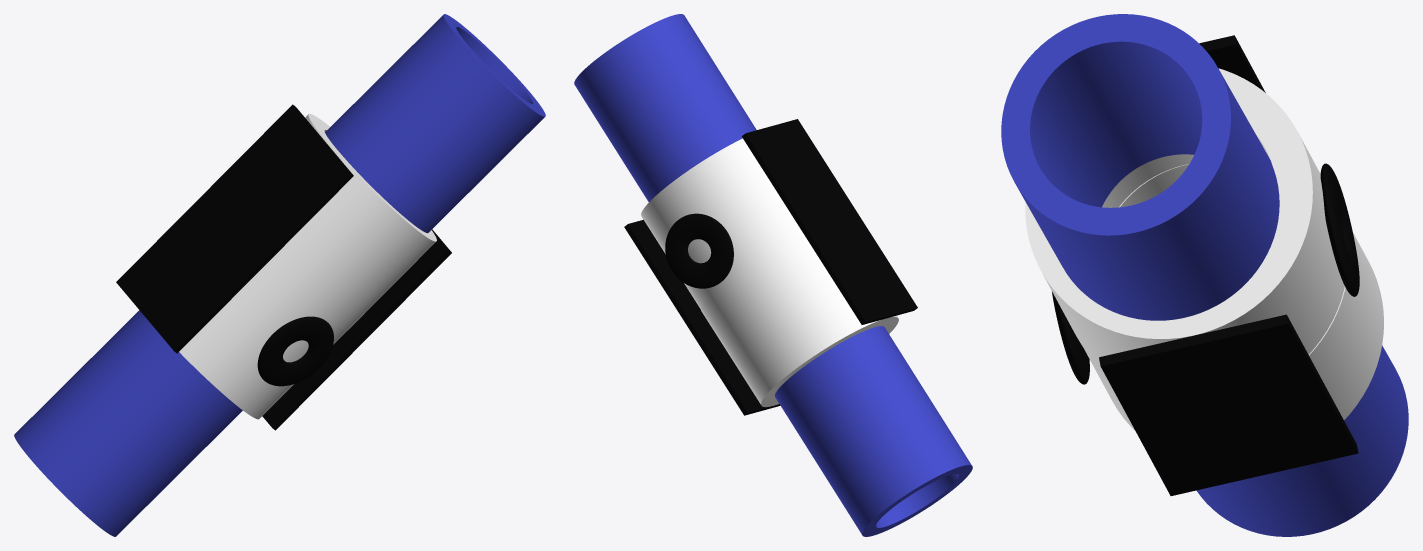
Rendered from Pipes Joined.glb.
The picture shows the model from 3 angles, left to right: view 1: azimuth 30°, elevation 25°; view 2: azimuth 150°, elevation 25°; view 3: azimuth 270°, elevation 25°; orthographic projection. The views are drawn at different scales.
Visible parts, largest first — view 1: mesh_id27, mesh_id132, mesh_id73, mesh_id126, mesh_id52, mesh_id67, mesh_id77; view 2: mesh_id27, mesh_id132, mesh_id52, mesh_id73, mesh_id126, mesh_id67, mesh_id86; view 3: mesh_id132, mesh_id67, mesh_id126, mesh_id27, mesh_id52, mesh_id86, mesh_id73, mesh_id77.
Part boxes in pixels (x1,y1,x2,y2): mesh_id27: (14, 310, 242, 536); mesh_id132: (325, 14, 545, 233); mesh_id73: (116, 104, 353, 353); mesh_id126: (268, 114, 436, 330); mesh_id52: (179, 263, 346, 419); mesh_id67: (262, 229, 451, 430); mesh_id77: (257, 316, 333, 386); mesh_id27: (775, 326, 972, 536); mesh_id132: (574, 14, 756, 201); mesh_id52: (701, 233, 898, 407); mesh_id73: (742, 119, 917, 324); mesh_id126: (641, 138, 802, 309); mesh_id67: (624, 219, 780, 415); mesh_id86: (665, 213, 733, 288); mesh_id132: (1001, 14, 1279, 320); mesh_id67: (1099, 314, 1358, 495); mesh_id126: (1025, 68, 1344, 367); mesh_id27: (1196, 345, 1408, 536); mesh_id52: (1083, 164, 1383, 430); mesh_id86: (1320, 163, 1359, 296); mesh_id73: (1199, 35, 1265, 92); mesh_id77: (1052, 292, 1089, 384).
Size of the model in its own units: 0.7804 by 0.7493 by 0.3678.
Materials: 7 (7 with a texture image).
